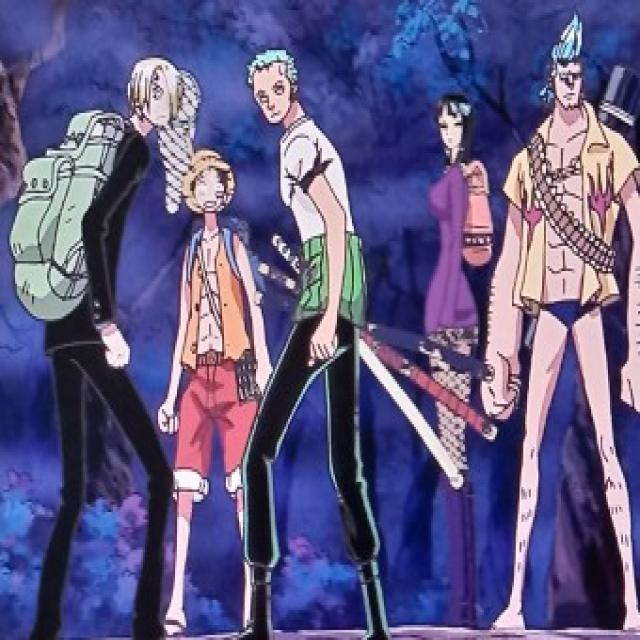Franky: (539, 13, 596, 121)
Luffy: (175, 143, 240, 221)
NicoRobin: (426, 86, 490, 173)
Sangdi: (120, 48, 186, 134)
Zoro: (247, 44, 306, 129)
